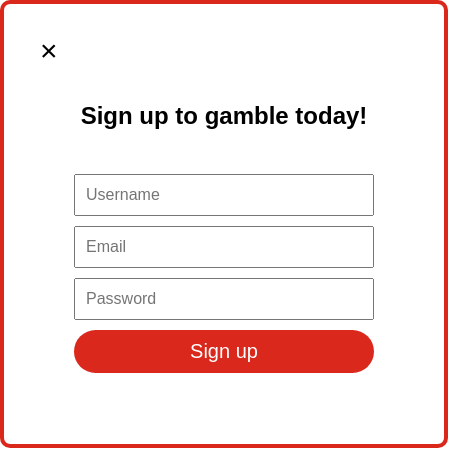
it: Register › shows error when password is too short
Type "newuser" into the field with placeholder "Username" at (224,195), box [74,174,374,216]
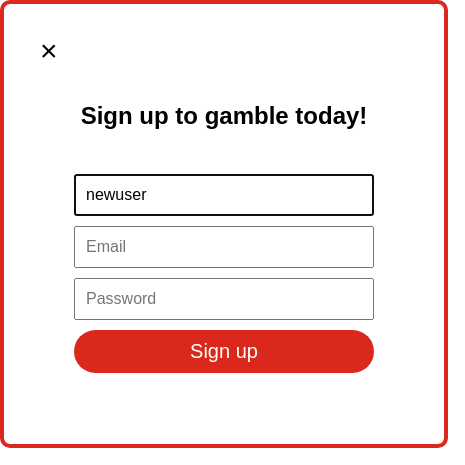
Type "new@test.com" into the field with placeholder "Email" at (224,247), box [74,226,374,268]
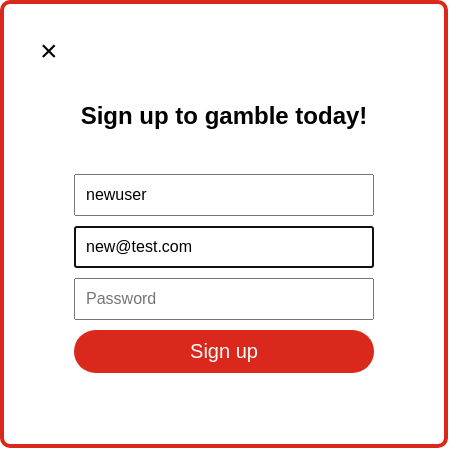
Type "short" into the password field with placeholder "Password" at (224,299), box [74,278,374,320]
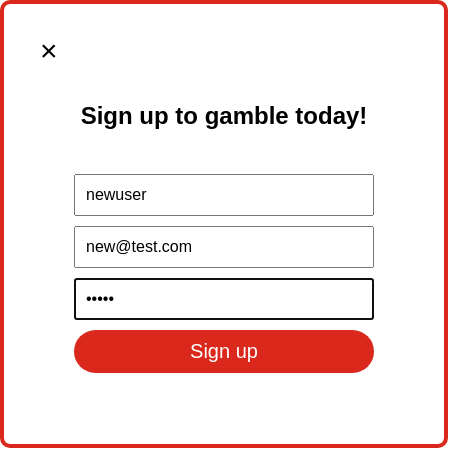
Click the button "Sign up" at (224,351), box [74,330,374,373]
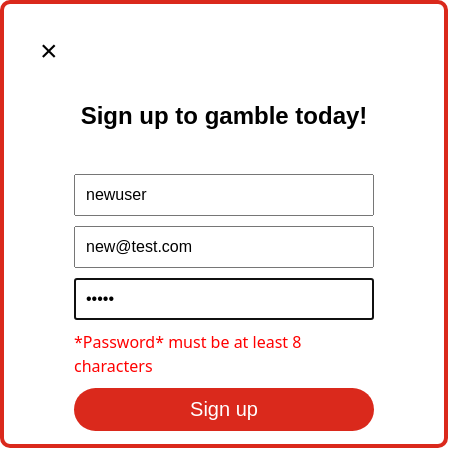
expect the text "*Password* must be at least 8 characters" is shown: met, box [74,331,301,377]
